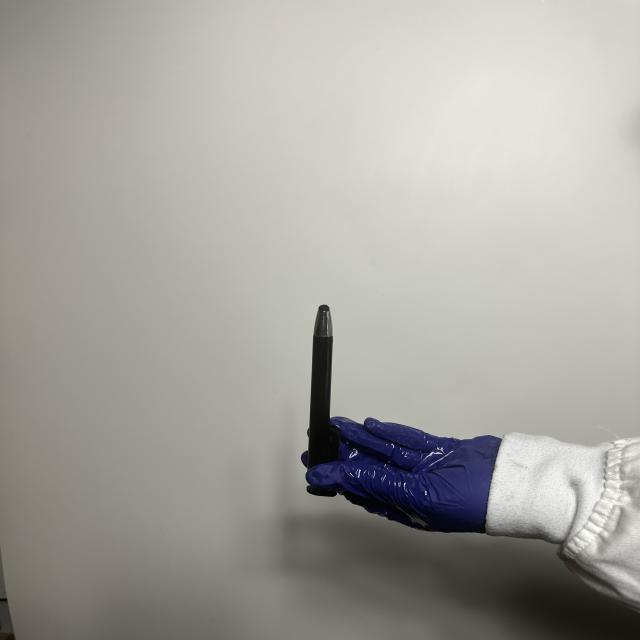gloves_contaminated: (307, 417, 501, 533)
